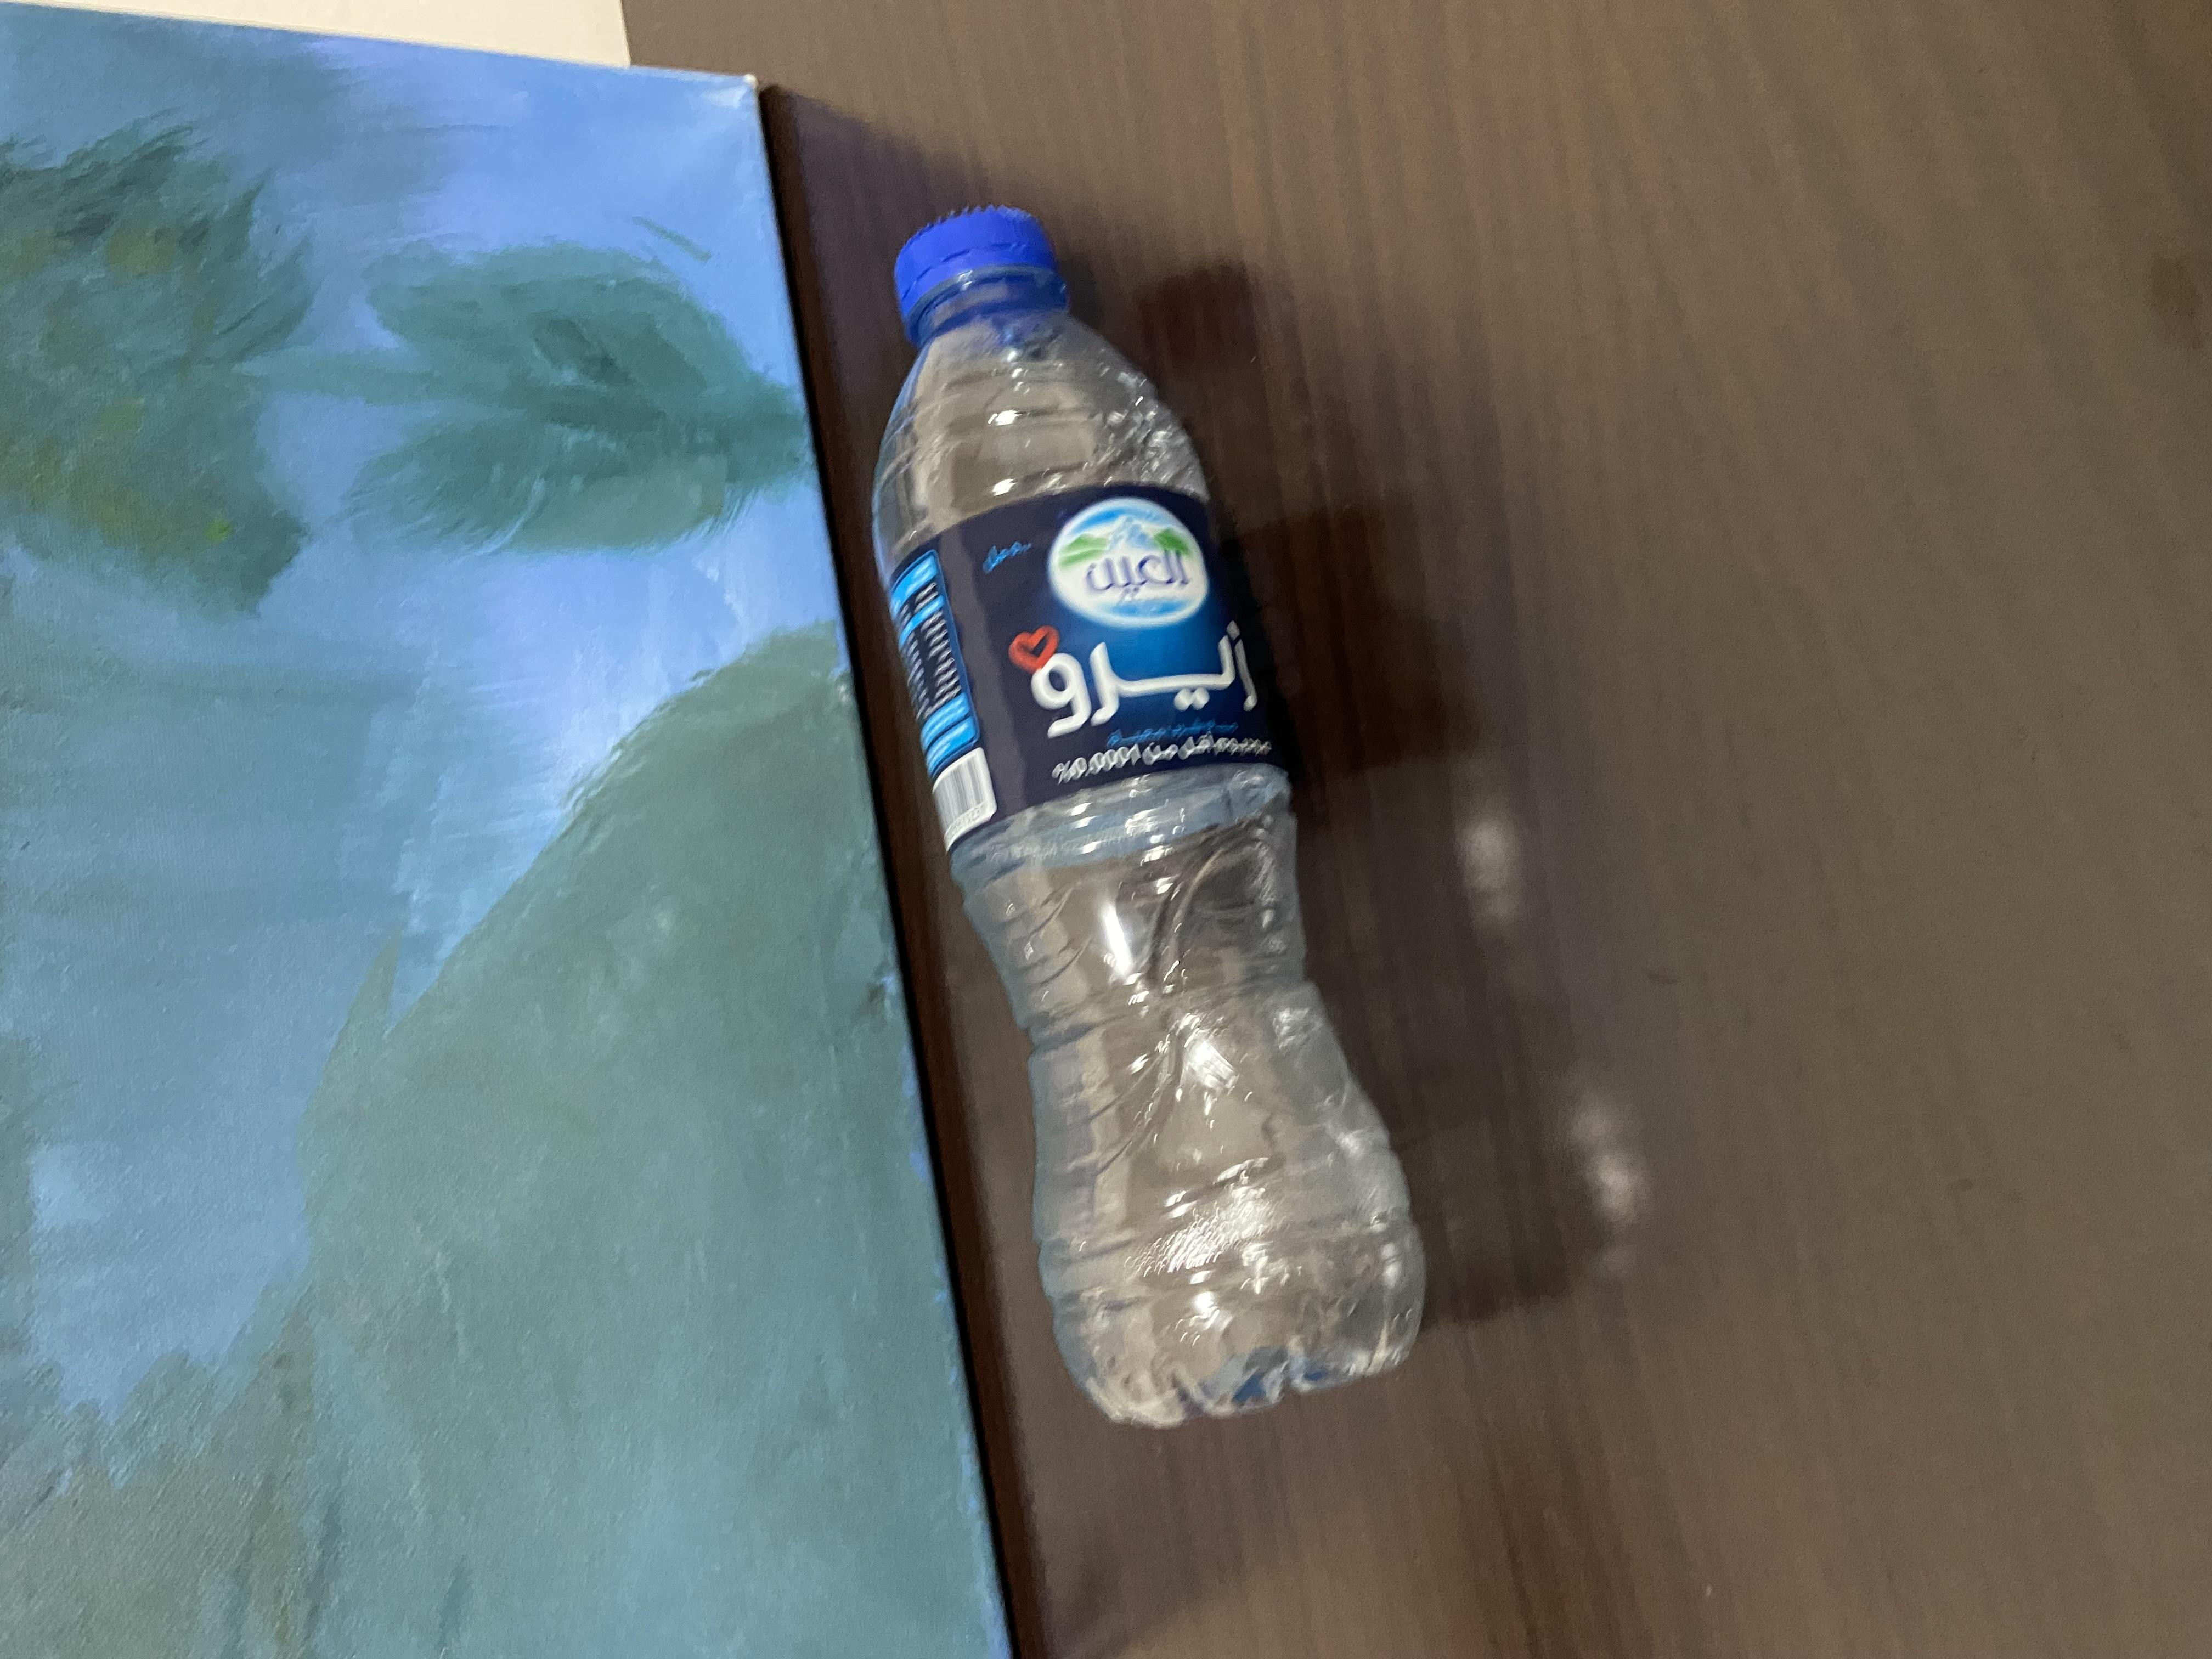bottle: (284, 626, 2022, 1096)
